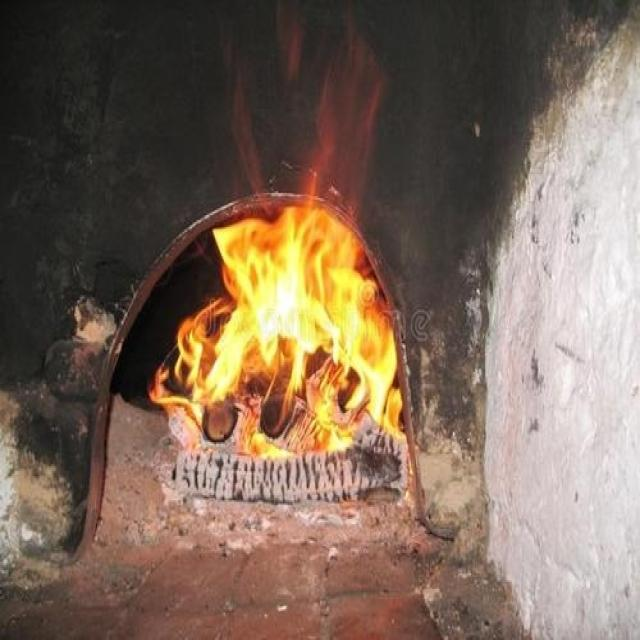Fire: (146, 20, 404, 458)
